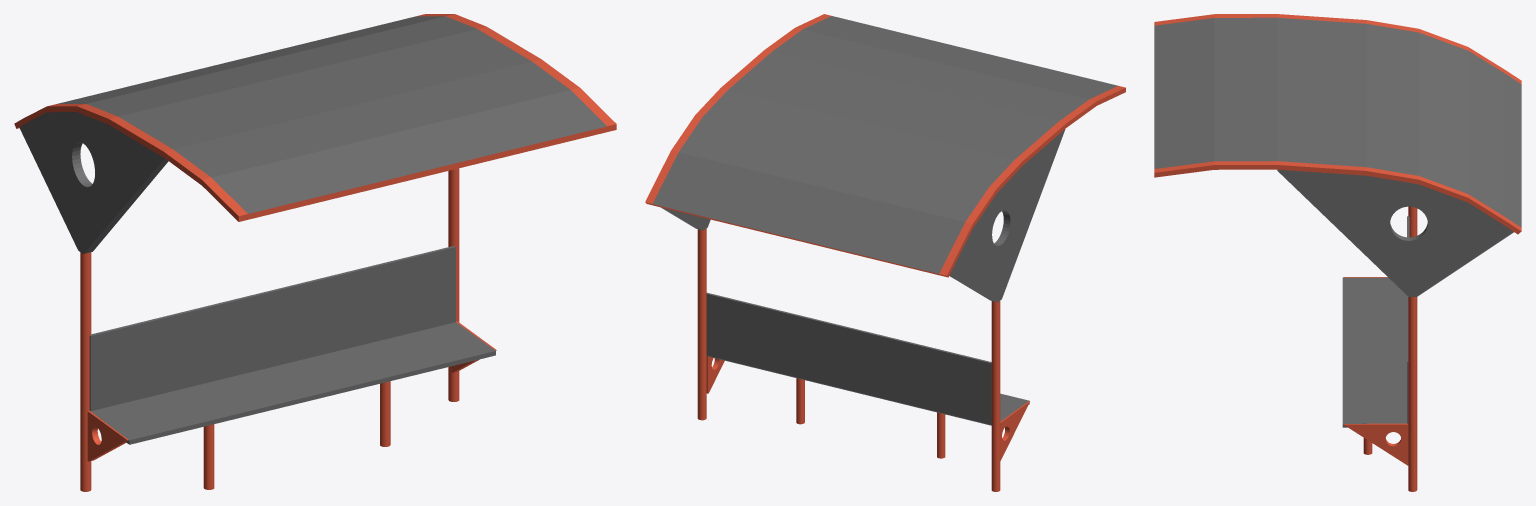
File: ponto-onibus.fbx
The picture shows the model from 3 angles, left to right: view 1: azimuth 30°, elevation 25°; view 2: azimuth 150°, elevation 25°; view 3: azimuth 270°, elevation 25°; orthographic projection. The views are drawn at different scales.
Visible parts, largest first — view 1: Cube.003; view 2: Cube.003; view 3: Cube.003.
Boxes of the visible parts, x1=… form: Cube.003: x1=14, y1=14, x2=616, y2=491; Cube.003: x1=645, y1=14, x2=1125, y2=491; Cube.003: x1=1154, y1=14, x2=1521, y2=491.
Size of the model in its own units: 205 by 208 by 211.
